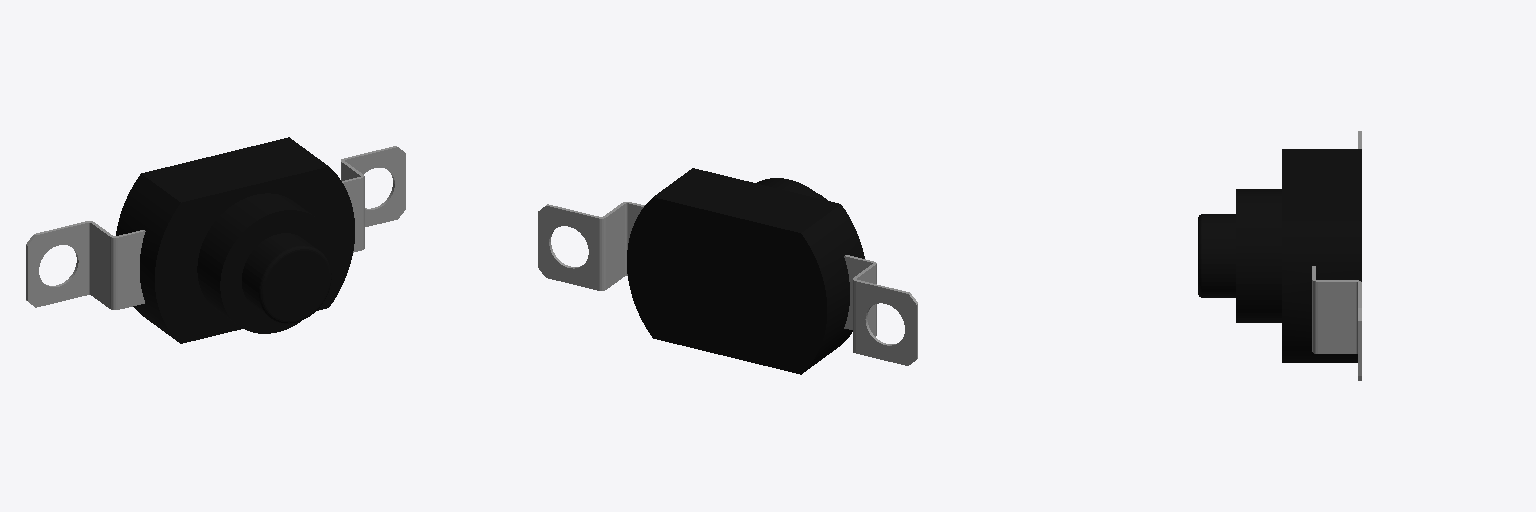
The model's file is button.obj.
The picture shows the model from 3 angles: view 1: azimuth 30°, elevation 25°; view 2: azimuth 150°, elevation 25°; view 3: azimuth 270°, elevation 25°; orthographic projection.
Visible parts, largest first — view 1: Body1; view 2: Body1; view 3: Body1.
Boxes of the visible parts, box(x1,y1,x2,y2) form: Body1: box(26, 137, 405, 343); Body1: box(538, 168, 917, 374); Body1: box(1198, 131, 1361, 380).
Bounding box in the file's own units: 0.9055 × 0.3228 × 0.3386.